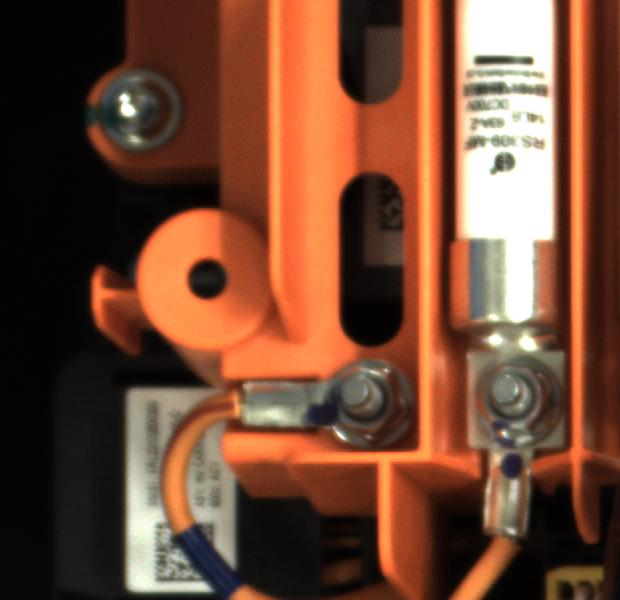screw_m: (85, 62, 197, 163)
screw_s: (460, 349, 567, 453), (317, 353, 409, 443)
